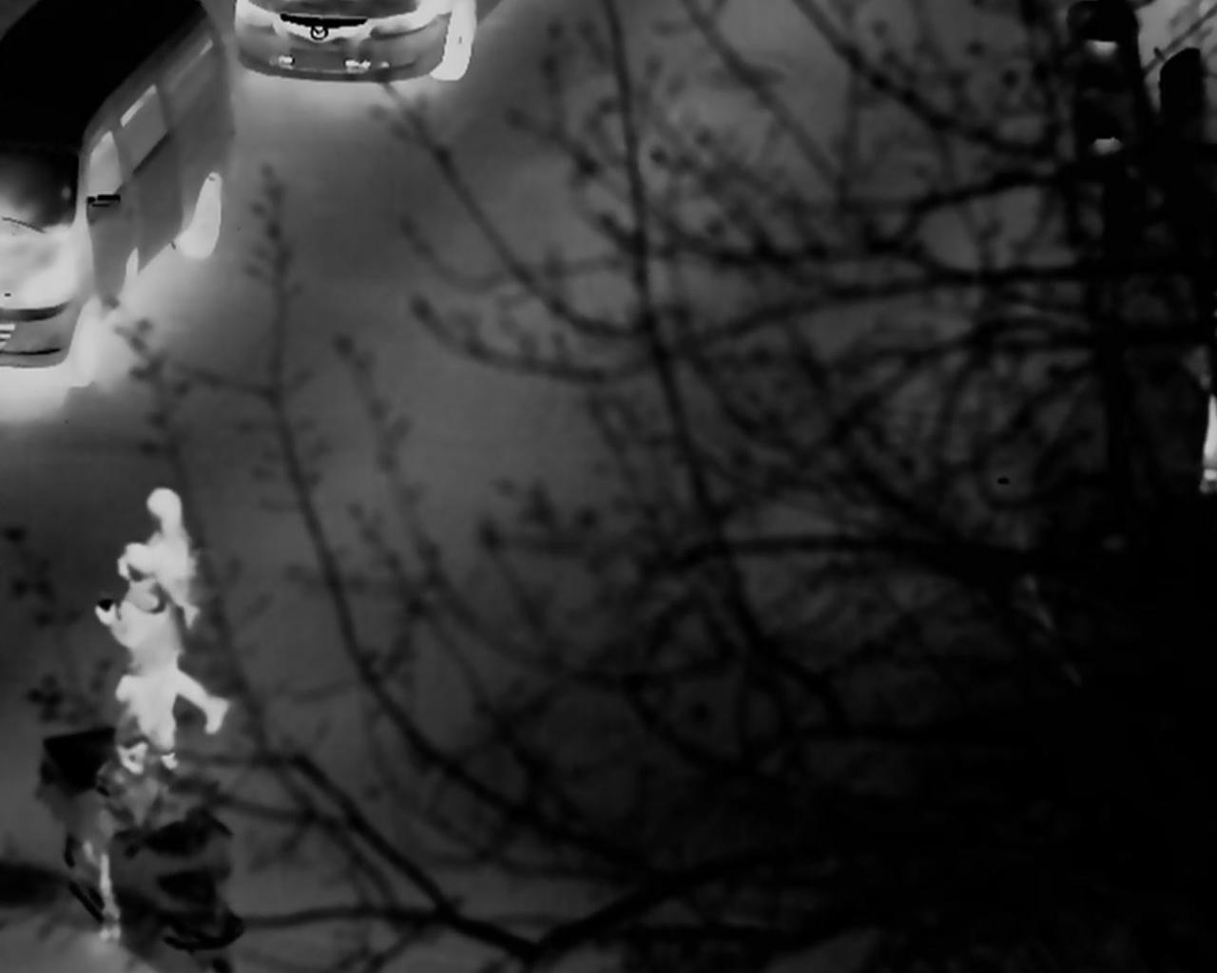person: (95, 544, 190, 788), (140, 497, 238, 731), (83, 727, 198, 901)
